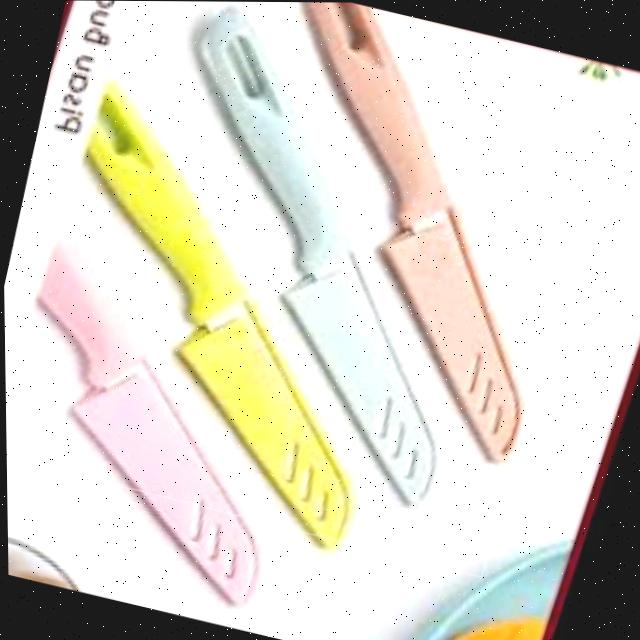knife: (101, 1, 533, 512), (4, 74, 436, 558), (203, 1, 608, 466), (3, 224, 325, 611)
